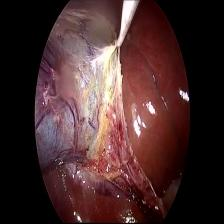Hook: (110, 0, 139, 53)
